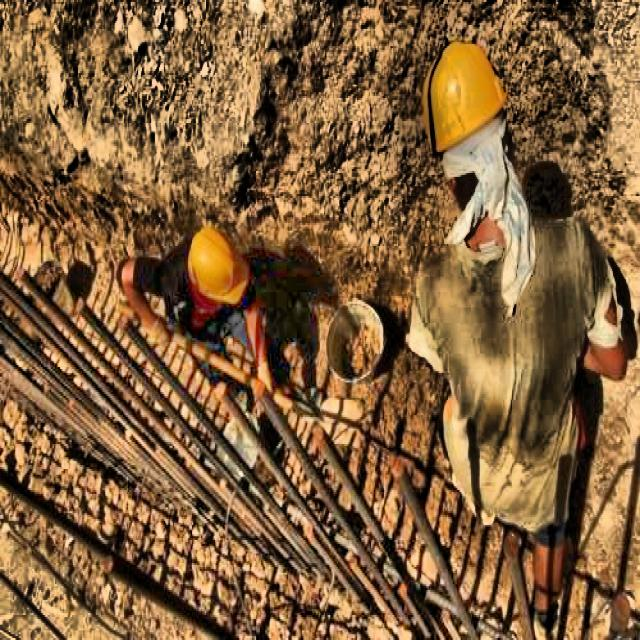helmet: (418, 35, 514, 217), (184, 223, 243, 309)
